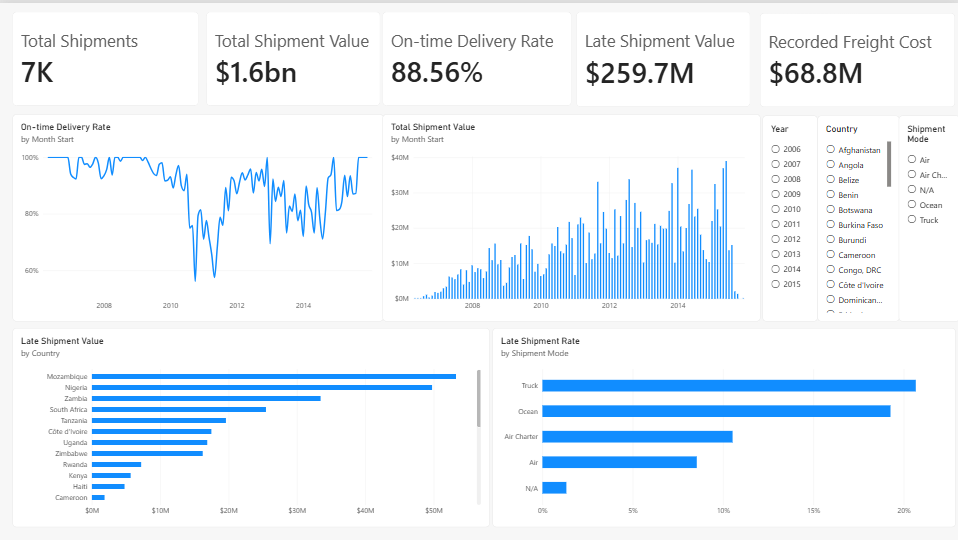

What the dashboard file says about the page in this screenshot:
{"tool":"powerbi","page":{"name":"Executive Overview","canvas":[1920,1080],"ordinal":0},"visuals":[{"type":"cardVisual","fields":{"Data":["Measure.Total Shipments"]},"box":[24,18,372,188],"z":0},{"type":"cardVisual","fields":{"Data":["Measure.Total Shipment Value"]},"box":[412,18,348,188],"z":1},{"type":"cardVisual","fields":{"Data":["Measure.On-time Delivery Rate"]},"box":[766,18,378,188],"z":2},{"type":"cardVisual","fields":{"Data":["Measure.Late Shipment Value"]},"box":[1152,18,348,190],"z":3},{"type":"cardVisual","fields":{"Data":["Measure.Recorded Freight Cost"]},"box":[1520,20,390,188],"z":4},{"type":"lineChart","fields":{"Category":["dim_date.Month Start"],"Y":["Measure.On-time Delivery Rate"]},"box":[24,222,742,414],"z":5},{"type":"clusteredColumnChart","fields":{"Category":["dim_date.Month Start"],"Y":["Measure.Total Shipment Value"]},"box":[766,222,756,414],"z":6},{"type":"listSlicer","fields":{"Values":["dim_date.Year"]},"box":[1524,224,110,412],"z":7},{"type":"listSlicer","fields":{"Values":["dim_country.Country"]},"box":[1634,224,164,412],"z":8},{"type":"listSlicer","fields":{"Values":["dim_shipment_mode.Shipment Mode"]},"box":[1798,224,122,412],"z":9},{"type":"clusteredBarChart","fields":{"Category":["dim_country.Country"],"Y":["Measure.Late Shipment Value"]},"box":[24,650,954,398],"z":10},{"type":"clusteredBarChart","fields":{"Category":["dim_shipment_mode.Shipment Mode"],"Y":["Measure.Late Shipment Rate"]},"box":[984,650,926,398],"z":11}]}

Visuals, with their boxes in screenshot pixels (x1, y1, x2, y2), scaled from the page's 1920x1080 canvas onto the 958x540 screenshot:
cardVisual - Measure.Total Shipments: bbox(12, 9, 198, 103)
cardVisual - Measure.Total Shipment Value: bbox(206, 9, 379, 103)
cardVisual - Measure.On-time Delivery Rate: bbox(382, 9, 571, 103)
cardVisual - Measure.Late Shipment Value: bbox(575, 9, 748, 104)
cardVisual - Measure.Recorded Freight Cost: bbox(758, 10, 953, 104)
lineChart - dim_date.Month Start x Measure.On-time Delivery Rate: bbox(12, 111, 382, 318)
clusteredColumnChart - dim_date.Month Start x Measure.Total Shipment Value: bbox(382, 111, 759, 318)
listSlicer - dim_date.Year: bbox(760, 112, 815, 318)
listSlicer - dim_country.Country: bbox(815, 112, 897, 318)
listSlicer - dim_shipment_mode.Shipment Mode: bbox(897, 112, 957, 318)
clusteredBarChart - dim_country.Country x Measure.Late Shipment Value: bbox(12, 325, 488, 524)
clusteredBarChart - dim_shipment_mode.Shipment Mode x Measure.Late Shipment Rate: bbox(491, 325, 953, 524)
